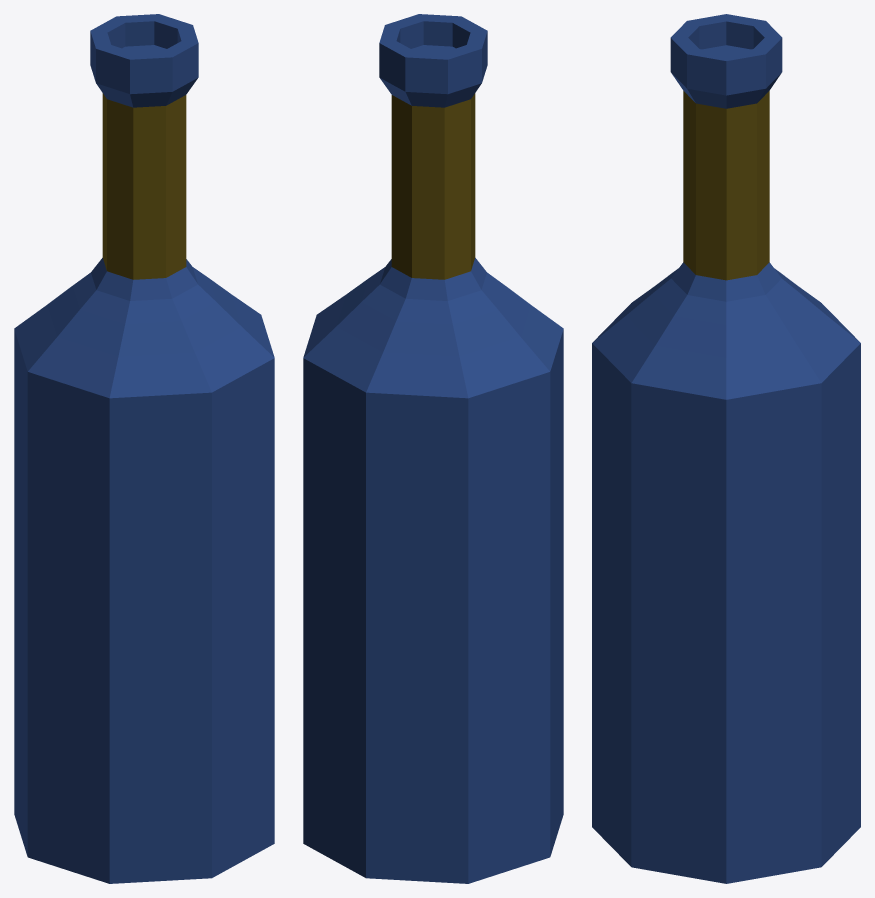
Rendered from Low Poly Bottle.fbx.
3 views of the same model, side by side, from view 1: azimuth 30°, elevation 25°; view 2: azimuth 150°, elevation 25°; view 3: azimuth 270°, elevation 25° (orthographic).
Visible parts, largest first — view 1: Cylinder; view 2: Cylinder; view 3: Cylinder.
Part boxes in pixels (left/top/right/bottom): Cylinder: left=14, top=14, right=274, bottom=883; Cylinder: left=303, top=14, right=563, bottom=883; Cylinder: left=592, top=14, right=860, bottom=883.
Size of the model in its own units: 1.44 by 4.68 by 1.44.
